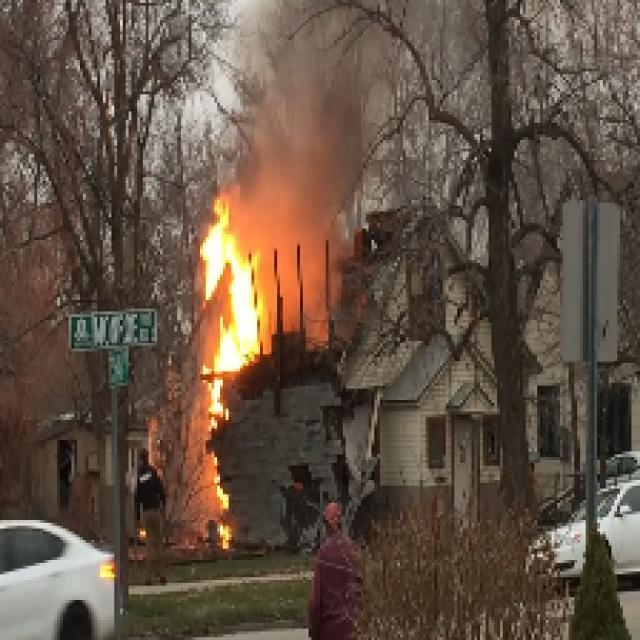Fire: (198, 220, 260, 363)
Smoke: (259, 81, 342, 348)
